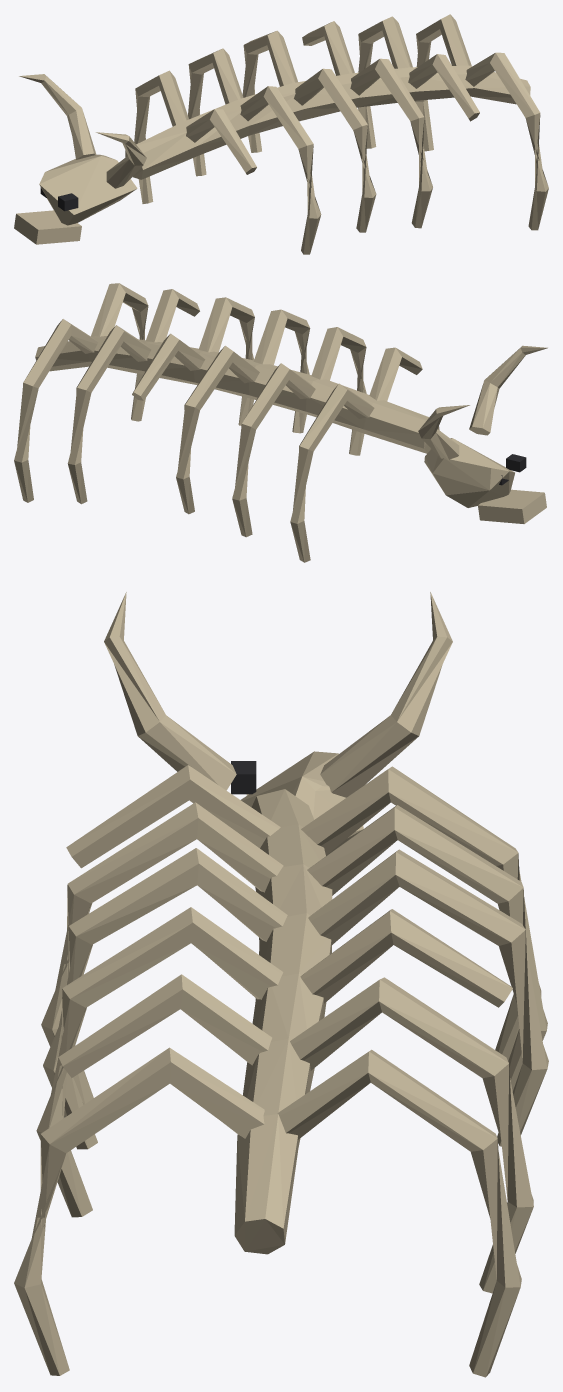
Rendered from huesos_gigantes.fbx.
3 views of the same model, one above another, from view 1: azimuth 30°, elevation 25°; view 2: azimuth 150°, elevation 25°; view 3: azimuth 270°, elevation 25° (orthographic). The views are drawn at different scales.
Visible parts, largest first — view 1: huesos_gigantes; view 2: huesos_gigantes; view 3: huesos_gigantes.
Part boxes in pixels (<box>): huesos_gigantes: <box>14,14,548,254</box>; huesos_gigantes: <box>14,283,547,562</box>; huesos_gigantes: <box>14,592,548,1377</box>.
Size of the model in its own units: 17.96 by 6.51 by 8.45.
